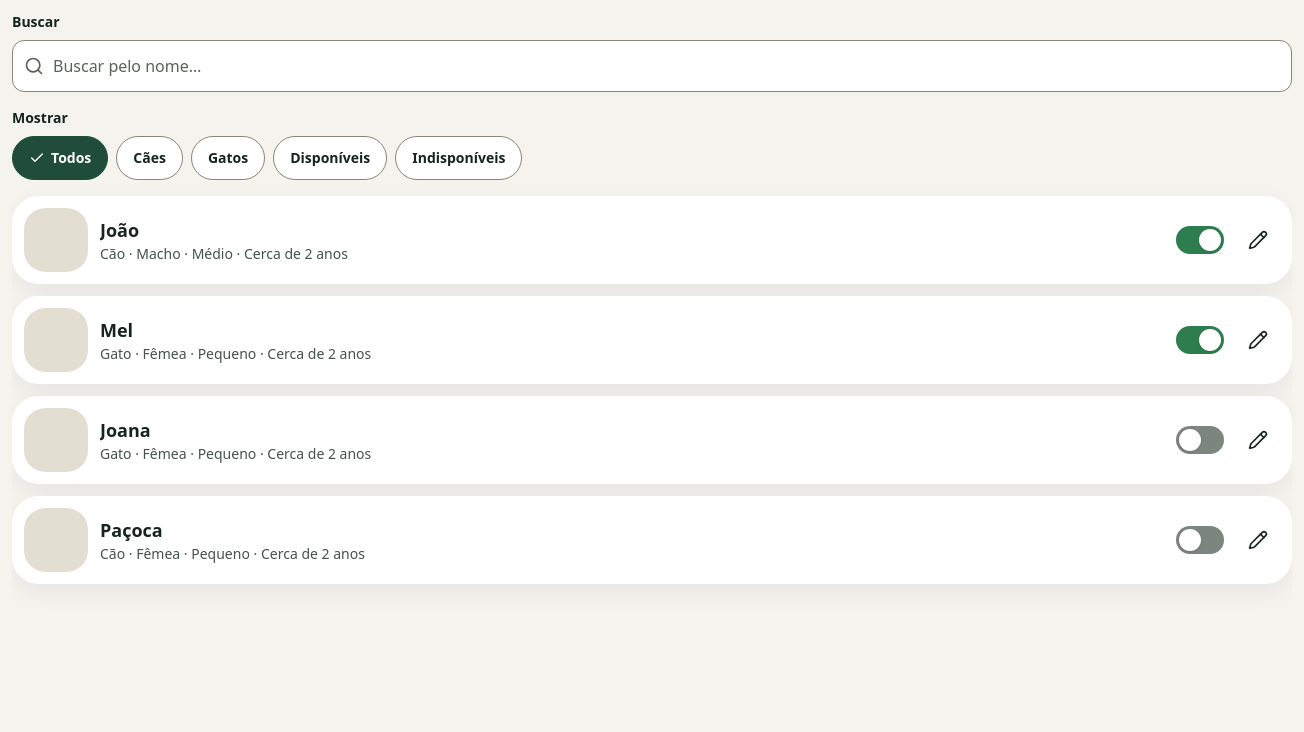
Test: AnimalList › tocar no filtro marcado volta para "Todos"
Click the button "Gatos".
click(228, 158)  # box [191,136,265,180]
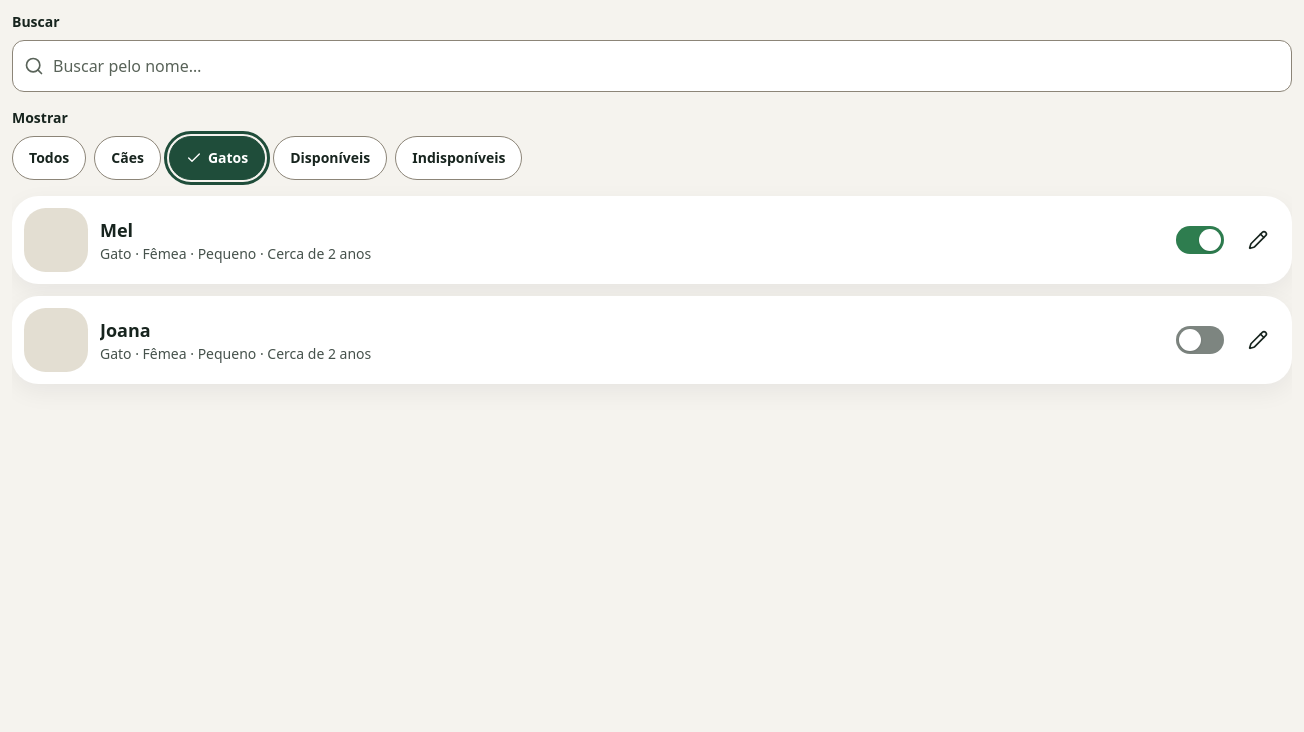
Click the button "Gatos".
click(217, 158)  # box [169,136,265,180]
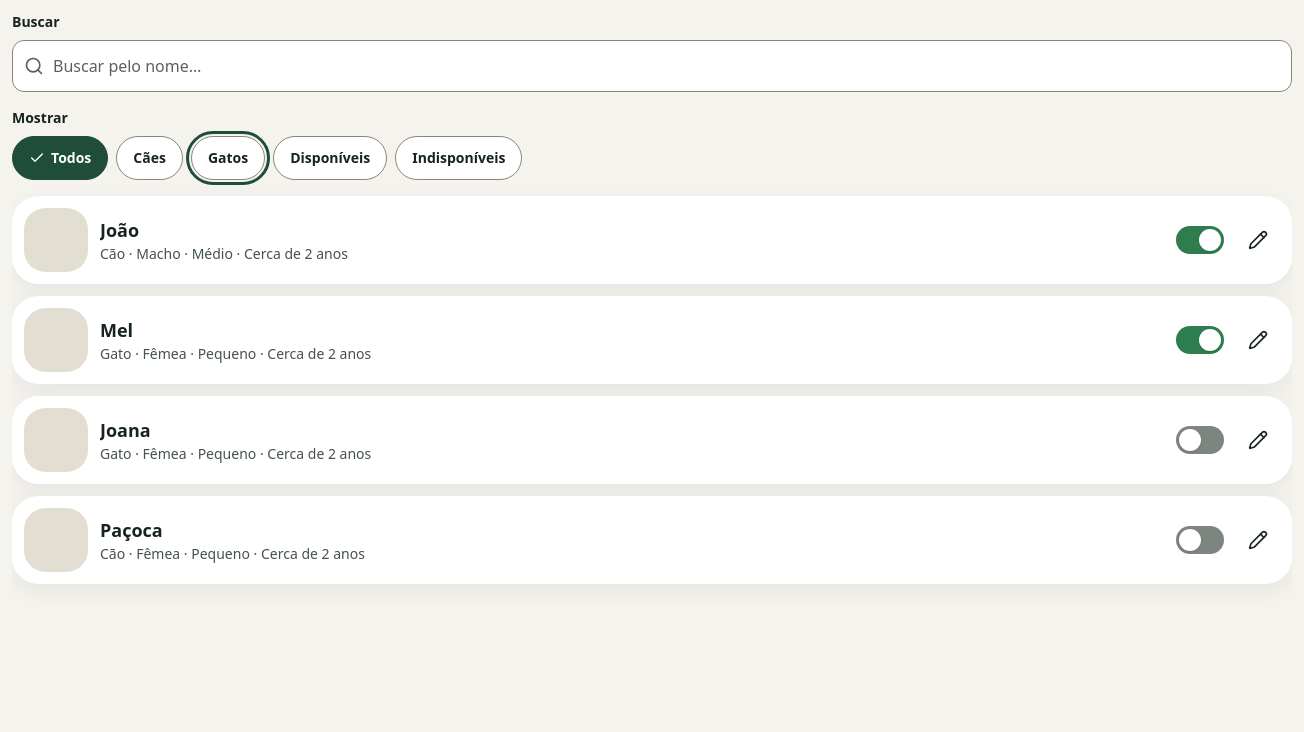
Result: the number of headings is 4 at [100,218,139,242]; [100,318,133,342]; [100,418,151,442]; [100,518,163,542]
